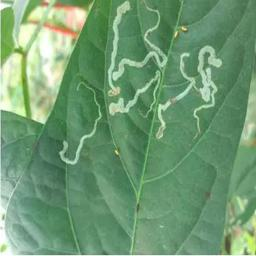liriomyza: (152, 46, 224, 141), (104, 1, 169, 97), (60, 79, 102, 167), (104, 68, 160, 119), (172, 24, 189, 38)
